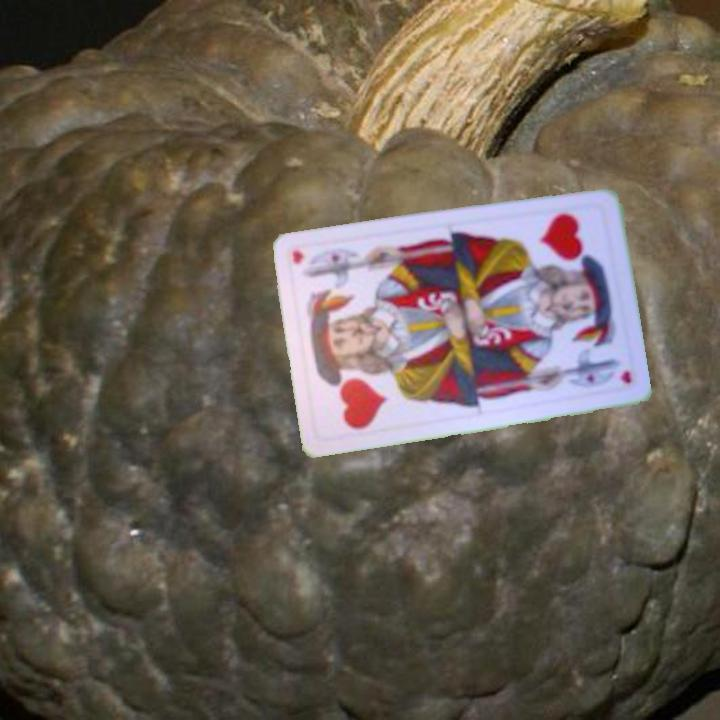h_j.png: (520, 200, 620, 311), (302, 329, 401, 440)
